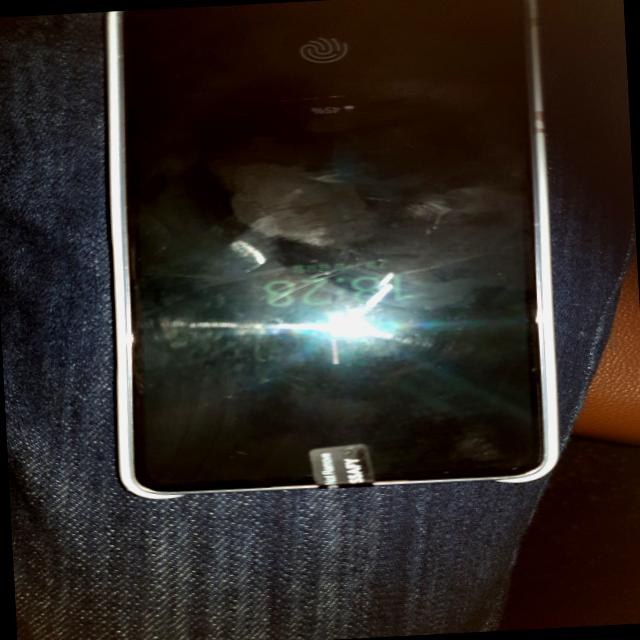phone: (87, 0, 564, 506)
sticker: (308, 442, 376, 491)
